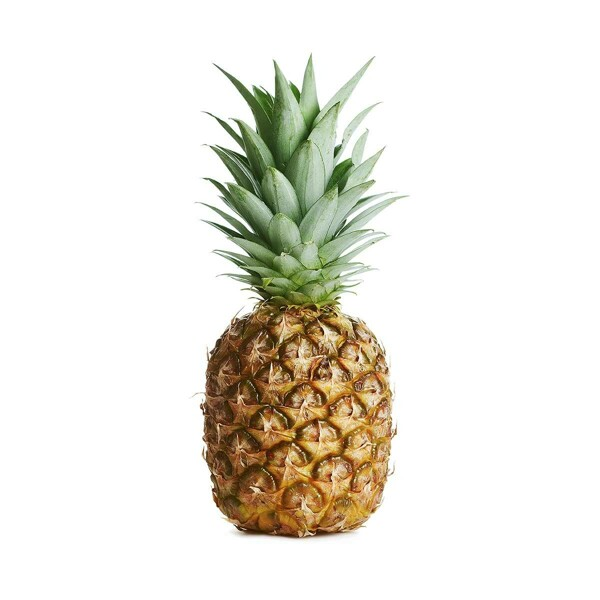pineapple: (186, 297, 434, 545)
